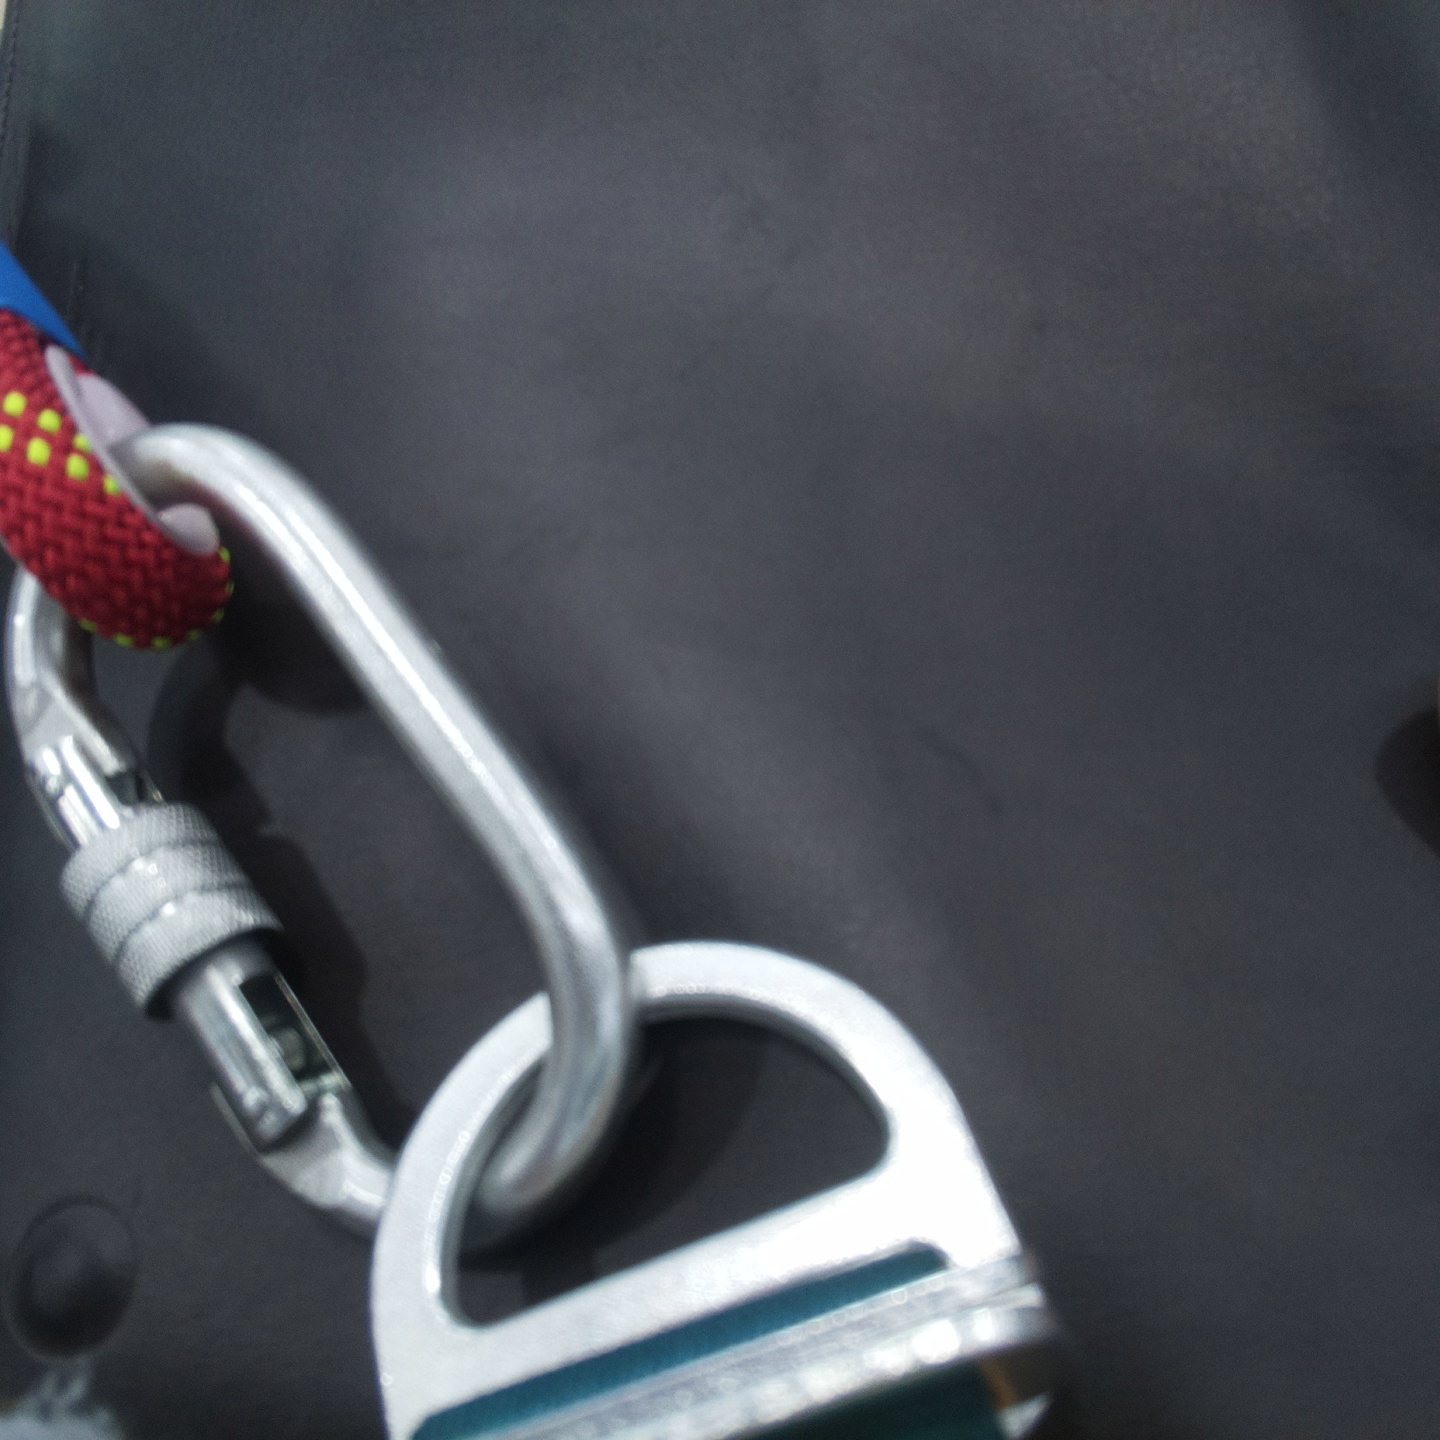SUCCESS: (144, 794, 1025, 1408)
